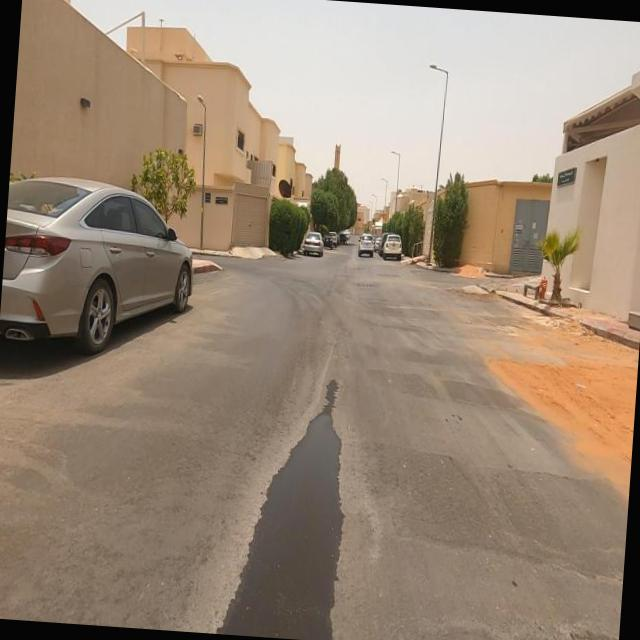debris: (523, 251, 564, 326)
